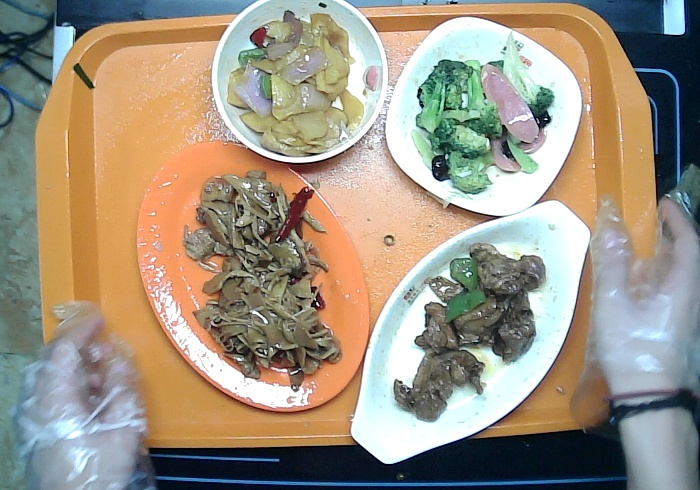NLDX-Bai_Se_Xiao_Fang_Die: (385, 16, 583, 217)
NLDX-Fan_Wan: (211, 1, 389, 163)
NLDX-Ju_Se_Pan: (137, 141, 370, 413)
NLDX-Yu_Pan: (350, 198, 590, 465)
